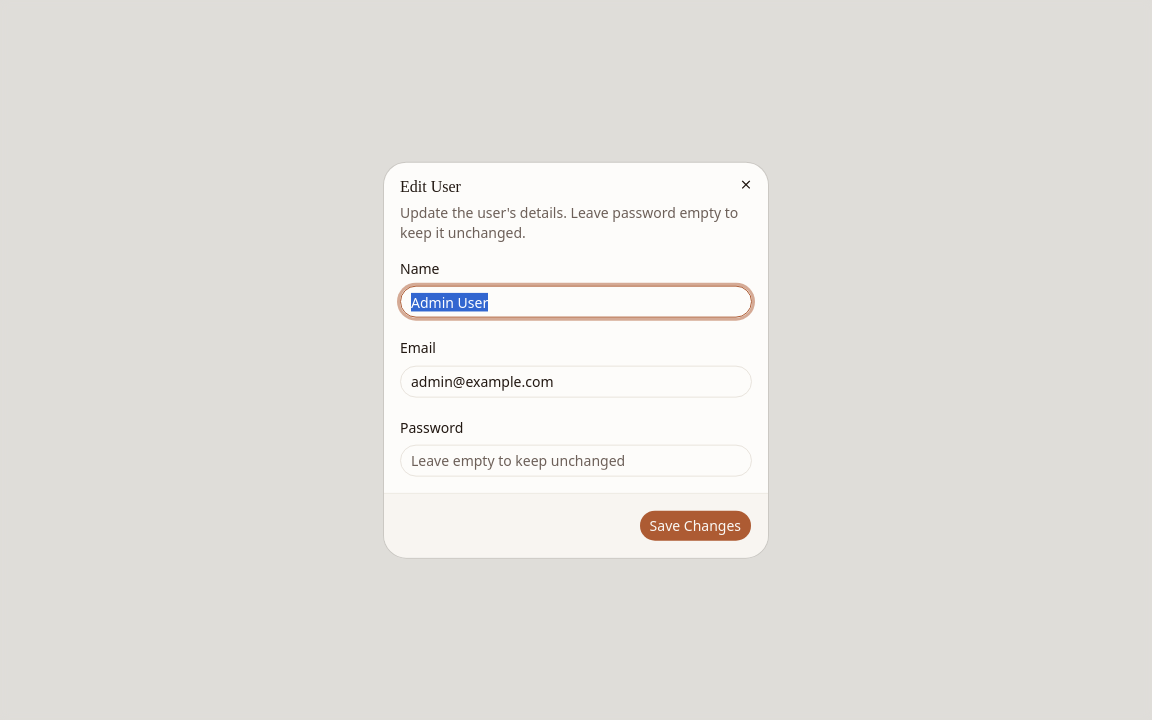
Test: UserFormDialog — edit mode › shows server error on duplicate email
Click the button "Save Changes" at (695, 525), box [639,509,752,541]
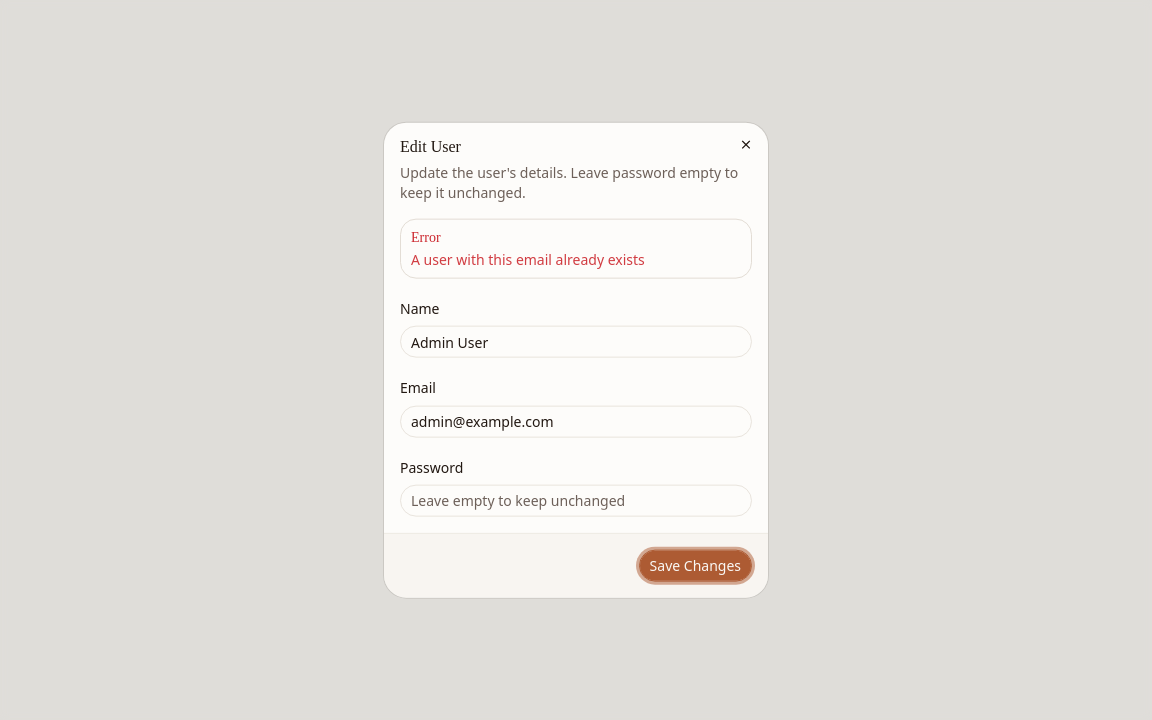
expect the text "A user with this email already exists" is shown: met, box [411,250,645,269]
